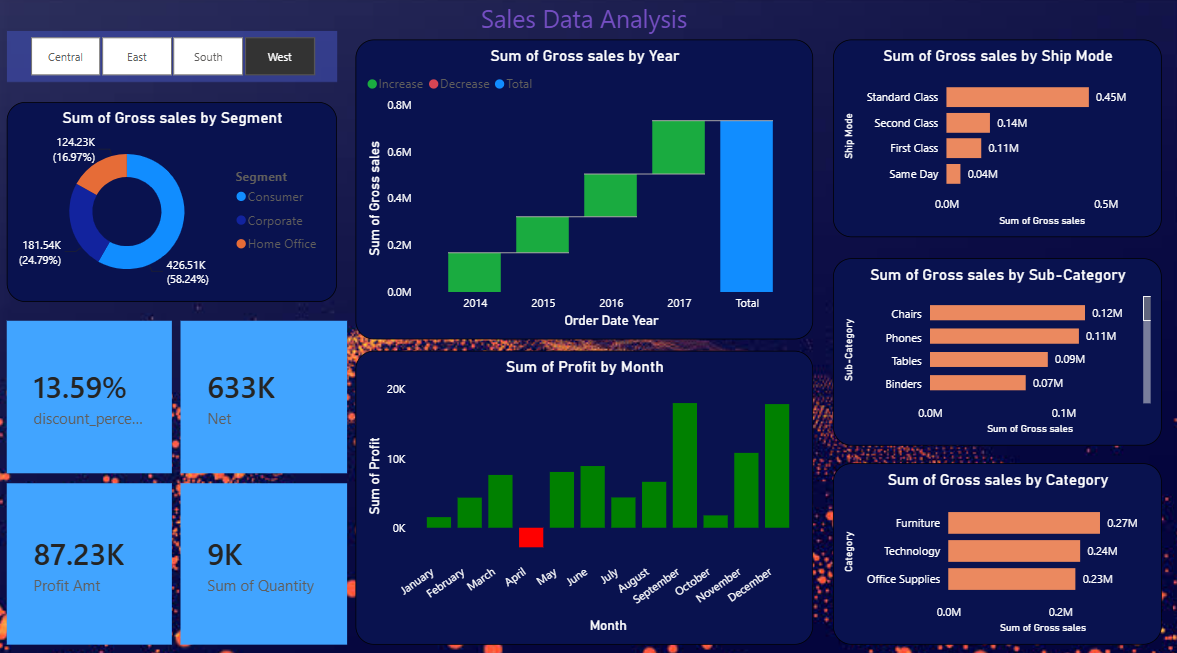

The dashboard page shown, as its layout file describes it:
{"tool":"powerbi","page":{"name":"dashboard","canvas":[1280,720],"ordinal":0},"visuals":[{"type":"textbox","box":[9.6,0,1247.3,74.1],"z":0},{"type":"clusteredBarChart","fields":{"Category":["Product.Category"],"Y":["Sum(Order.Gross sales)"]},"box":[902.1,503.7,355.2,195.8],"z":1000},{"type":"clusteredBarChart","fields":{"Y":["Sum(Order.Gross sales)"],"Category":["Product.Sub-Category"]},"box":[902.1,282.3,355.2,202.6],"z":2000},{"type":"clusteredBarChart","fields":{"Y":["Sum(Order.Gross sales)"],"Category":["Order.Ship Mode"]},"box":[902.1,45.9,355.2,213.4],"z":3000},{"type":"waterfallChart","fields":{"Category":["Order.Order Date.Variation.Date Hierarchy.Month","Order.Order Date.Variation.Date Hierarchy.Day","Order.Order Date.Variation.Date Hierarchy.Year"],"Y":["Sum(Order.Gross sales)"]},"box":[386.2,45.9,494.3,324.1],"z":4000},{"type":"columnChart","fields":{"Category":["Order.Order Date.Variation.Date Hierarchy.Month","Order.Order Date.Variation.Date Hierarchy.Day","Order.Order Date.Variation.Date Hierarchy.Year"],"Y":["Sum(Order.Profit)"]},"box":[386.2,382.2,494.3,317.4],"z":5000},{"type":"donutChart","fields":{"Category":["Customer.Segment"],"Y":["Sum(Order.Gross sales)"]},"box":[9.5,113.4,356.5,216.1],"z":6000},{"type":"slicer","fields":{"Values":["Customer.Region"]},"box":[9.5,36.5,356.5,55.4],"z":7000},{"type":"cardVisual","fields":{"Data":["proj_measures.Profit Amt"]},"box":[9.5,525.3,178.3,174.2],"z":8000},{"type":"cardVisual","fields":{"Data":["proj_measures.Net"]},"box":[197.2,349.8,179.6,164.8],"z":9000},{"type":"cardVisual","fields":{"Data":["Sum(Order.Quantity)"]},"box":[197.2,525.3,179.6,174.2],"z":10000},{"type":"cardVisual","fields":{"Data":["proj_measures.discount_percentage"]},"box":[9.5,349.8,178.3,164.8],"z":11000}]}

Visuals, with their boxes in screenshot pixels (x1, y1, x2, y2), scaled from the page's 1280x720 canvas onto the 1177x653 screenshot:
textbox: [x1=9, y1=0, x2=1156, y2=67]
clusteredBarChart - Product.Category x Sum(Order.Gross sales): [x1=830, y1=457, x2=1156, y2=634]
clusteredBarChart - Sum(Order.Gross sales) x Product.Sub-Category: [x1=830, y1=256, x2=1156, y2=440]
clusteredBarChart - Sum(Order.Gross sales) x Order.Ship Mode: [x1=830, y1=42, x2=1156, y2=235]
waterfallChart - Order.Order Date.Variation.Date Hierarchy.Month x Order.Order Date.Variation.Date Hierarchy.Day: [x1=355, y1=42, x2=810, y2=336]
columnChart - Order.Order Date.Variation.Date Hierarchy.Month x Order.Order Date.Variation.Date Hierarchy.Day: [x1=355, y1=347, x2=810, y2=634]
donutChart - Customer.Segment x Sum(Order.Gross sales): [x1=9, y1=103, x2=337, y2=299]
slicer - Customer.Region: [x1=9, y1=33, x2=337, y2=83]
cardVisual - proj_measures.Profit Amt: [x1=9, y1=476, x2=173, y2=634]
cardVisual - proj_measures.Net: [x1=181, y1=317, x2=346, y2=467]
cardVisual - Sum(Order.Quantity): [x1=181, y1=476, x2=346, y2=634]
cardVisual - proj_measures.discount_percentage: [x1=9, y1=317, x2=173, y2=467]
